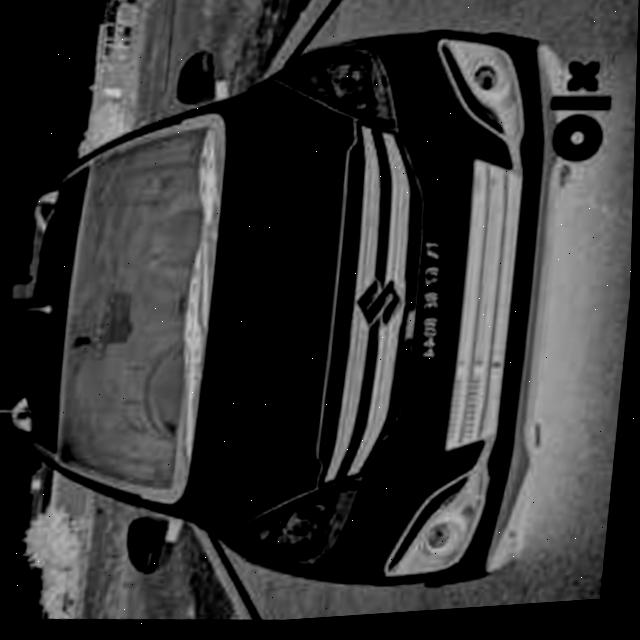Non_registered: (413, 229, 469, 380)
